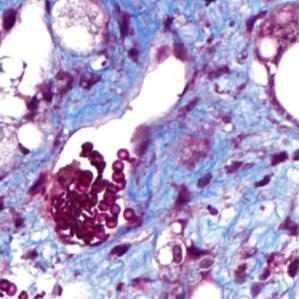steatosis: (14, 123, 46, 151)
